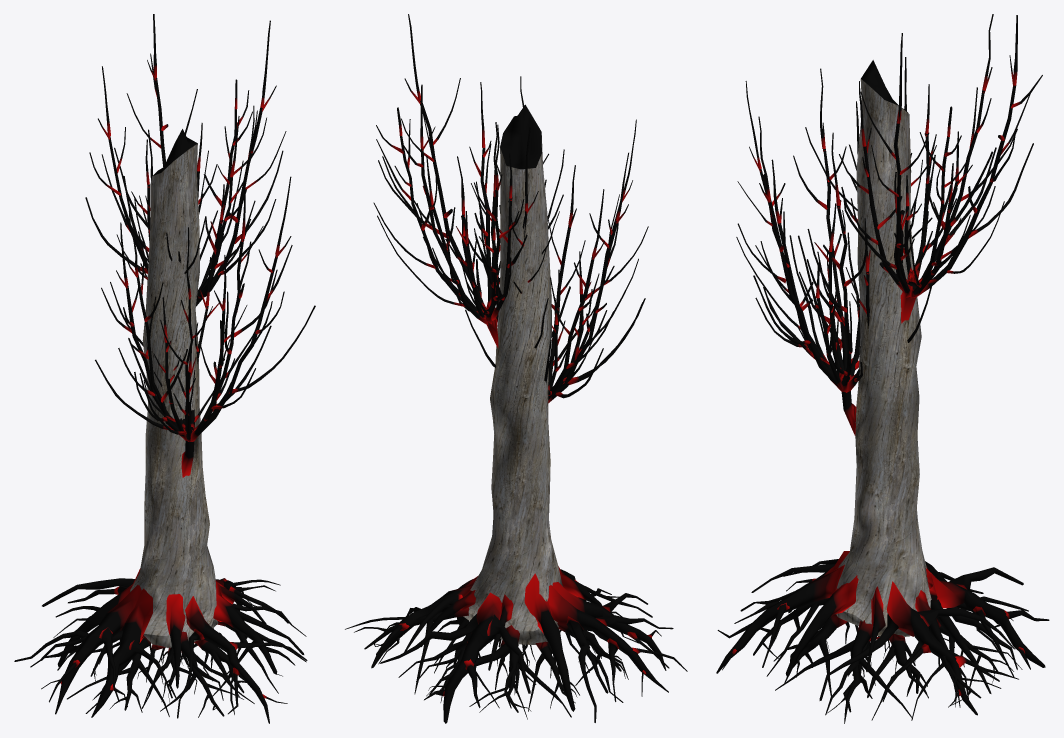
Rendered from Populus nigra Italica HD_Snag 1 dead_LOD3.fbx.
The picture shows the model from 3 angles, left to right: view 1: azimuth 30°, elevation 25°; view 2: azimuth 150°, elevation 25°; view 3: azimuth 270°, elevation 25°; orthographic projection. The views are drawn at different scales.
Visible parts, largest first — view 1: Populus_nigra__Italica__HD; view 2: Populus_nigra__Italica__HD; view 3: Populus_nigra__Italica__HD.
Part boxes in pixels (x1,y1,x2,y2): Populus_nigra__Italica__HD: (14,14,315,723); Populus_nigra__Italica__HD: (345,14,687,723); Populus_nigra__Italica__HD: (716,14,1049,723).
Size of the model in its own units: 4.18 by 8.95 by 3.84.
